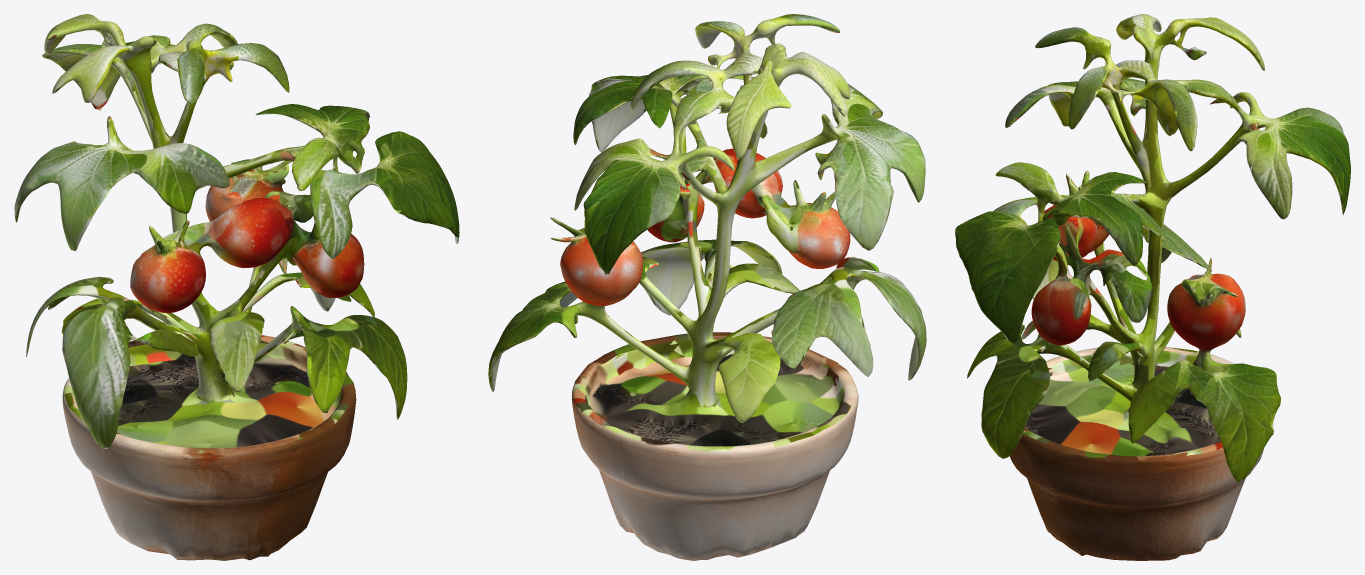
Rendered from tomato_plant.gltf.
The picture shows the model from 3 angles, left to right: view 1: azimuth 30°, elevation 25°; view 2: azimuth 150°, elevation 25°; view 3: azimuth 270°, elevation 25°; orthographic projection. The views are drawn at different scales.
Parts seen in each view (by area): view 1: Tomato Plant_0; view 2: Tomato Plant_0; view 3: Tomato Plant_0.
Boxes of the visible parts, left/top/right/bottom form: Tomato Plant_0: left=14, top=14, right=459, bottom=560; Tomato Plant_0: left=488, top=14, right=926, bottom=560; Tomato Plant_0: left=955, top=14, right=1350, bottom=560.
Size of the model in its own units: 0.3018 by 0.4 by 0.3.
Materials: 1 (1 with a texture image).
